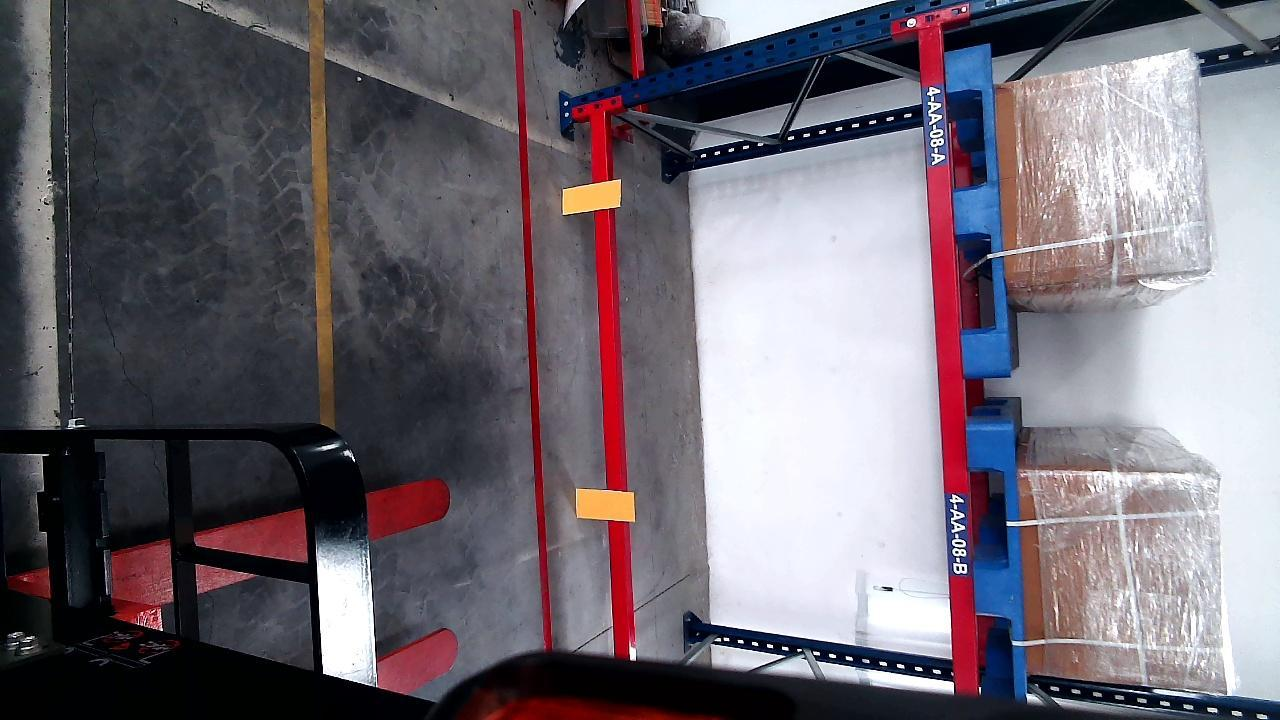red_line: (510, 13, 551, 647)
